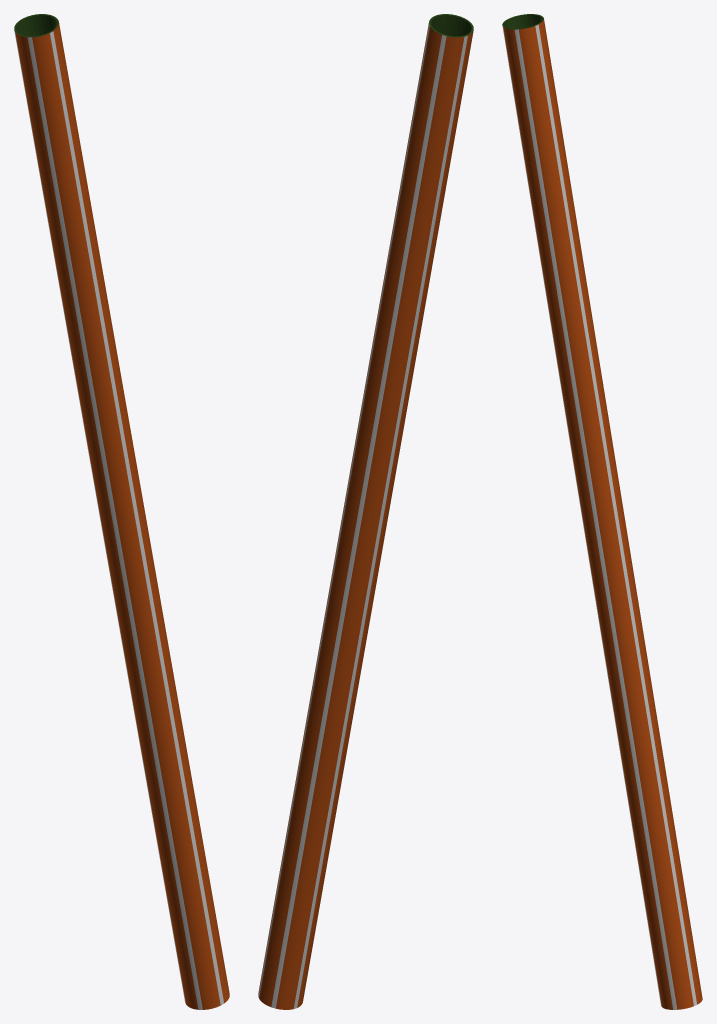
The model's file is OrangeStraw.fbx.
The picture shows the model from 3 angles, left to right: view 1: azimuth 30°, elevation 25°; view 2: azimuth 150°, elevation 25°; view 3: azimuth 330°, elevation 25°; orthographic projection. The views are drawn at different scales.
Visible parts, largest first — view 1: Cylinder012; view 2: Cylinder012; view 3: Cylinder012.
Boxes of the visible parts, x1,y1,x2,y2 form: Cylinder012: (14,14,229,1009); Cylinder012: (258,14,473,1009); Cylinder012: (502,14,702,1009).
Bounding box in the file's own units: 10.65 × 49.59 × 1.99.
